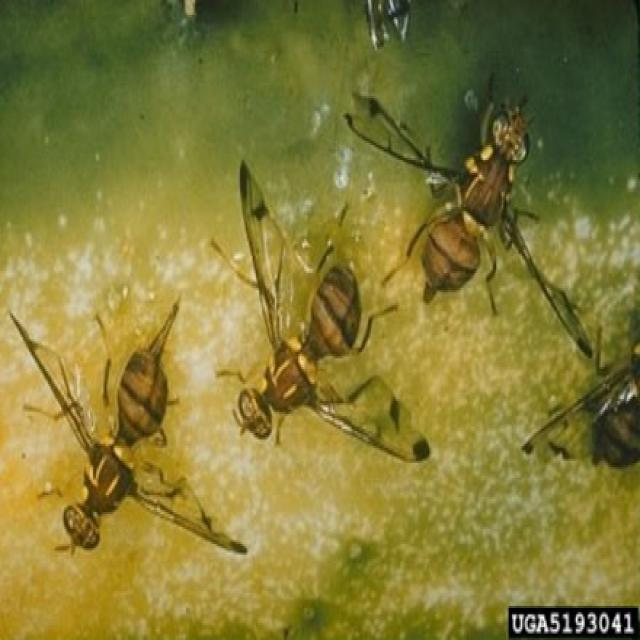Fruit fly: (342, 57, 598, 359), (205, 142, 436, 469), (5, 290, 255, 569)
